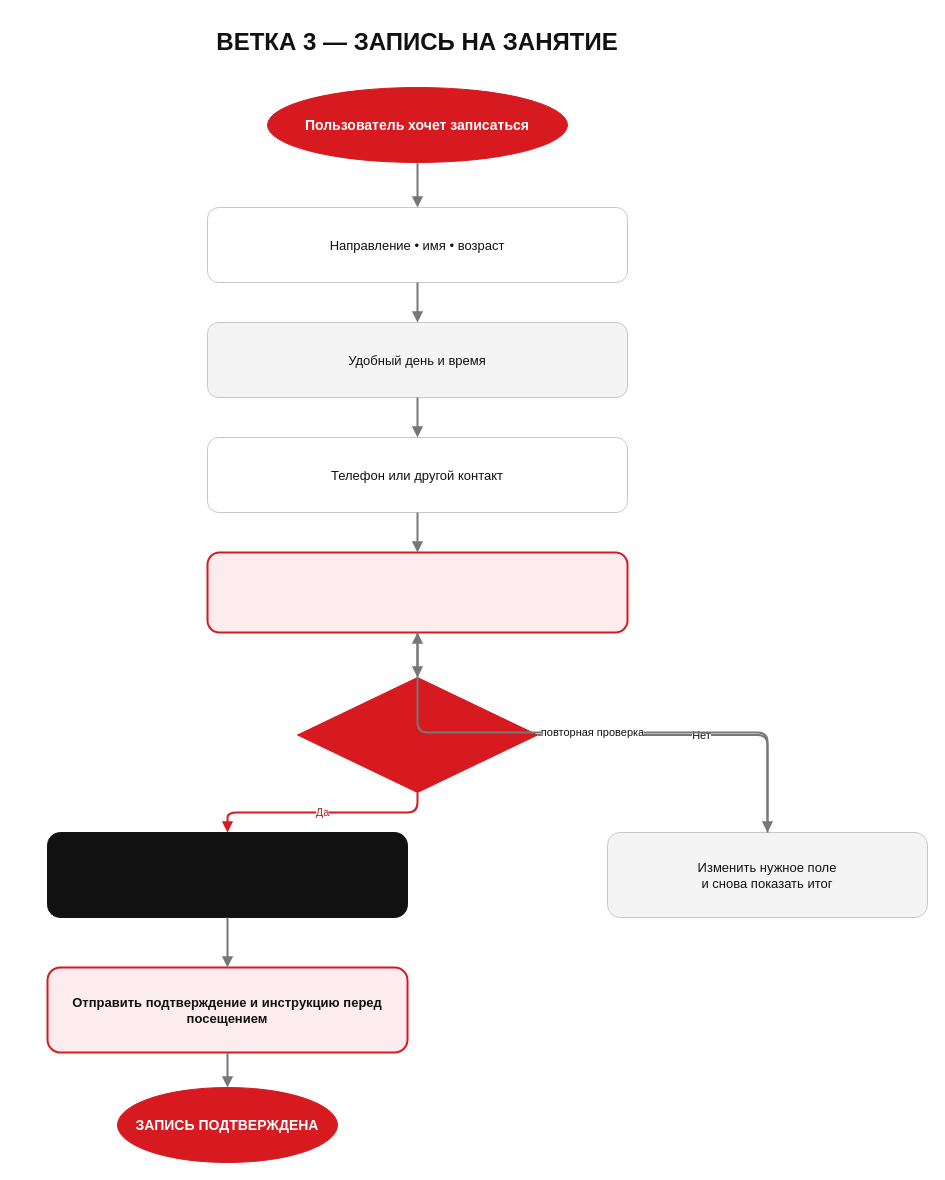
Some shapes in this 945 by 1180 pixel diagram are drawn without their labels. The centre of each missing label's shape, as x and y in pixels:
"Всё правильно?" belongs at pixel 417 734.
"Показать все собранные данные" belongs at pixel 417 592.
"Создать заявку Передать сотруднику полный контекст" belongs at pixel 227 875.
